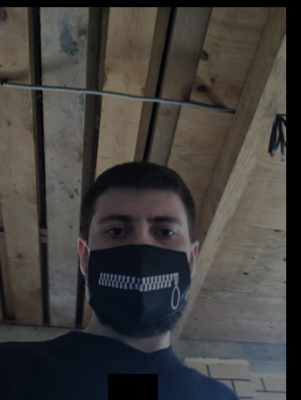with_mask: (88, 204, 192, 339)
